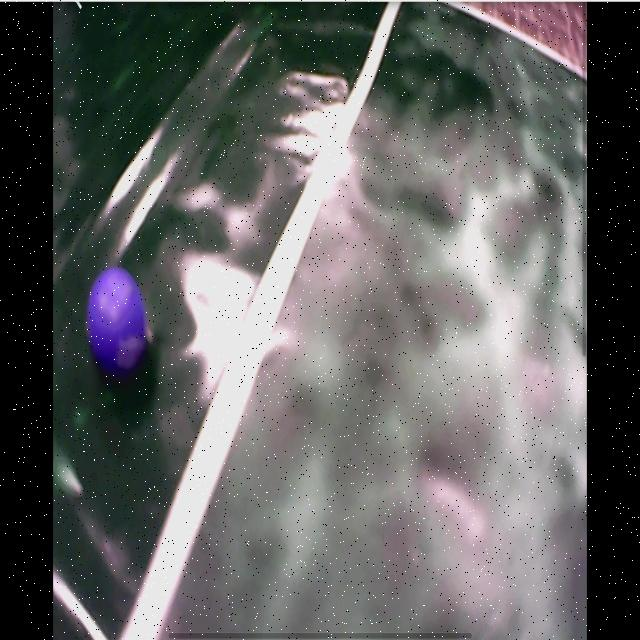ball: (86, 269, 146, 372)
